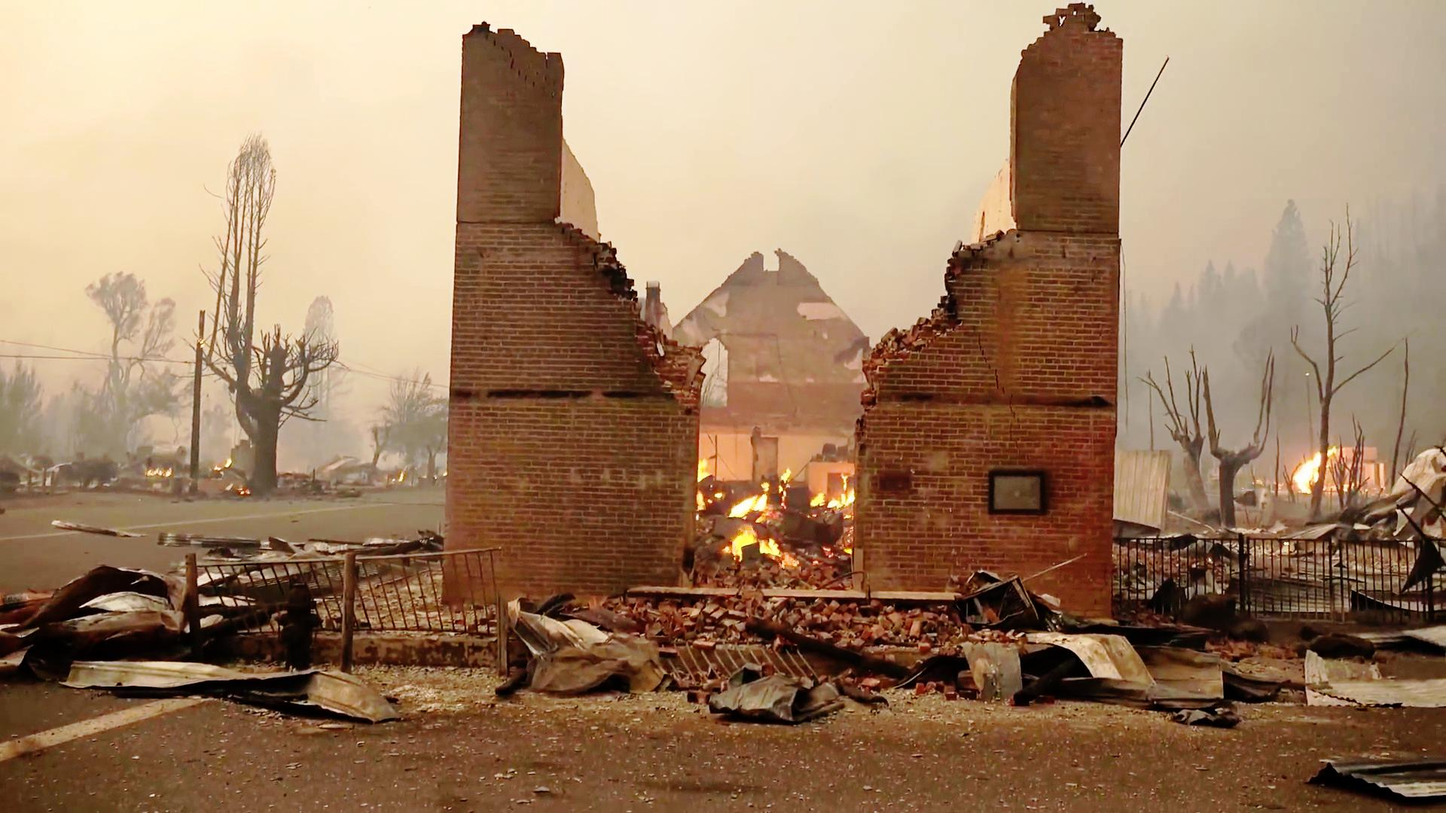fire: (1313, 411, 1367, 479)
smoke: (682, 20, 906, 198), (0, 0, 192, 174)
